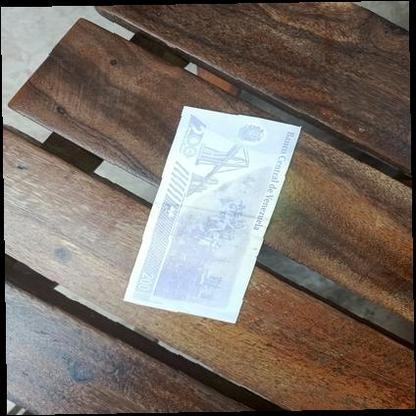two_hundred-back-vef: (122, 104, 302, 324)
